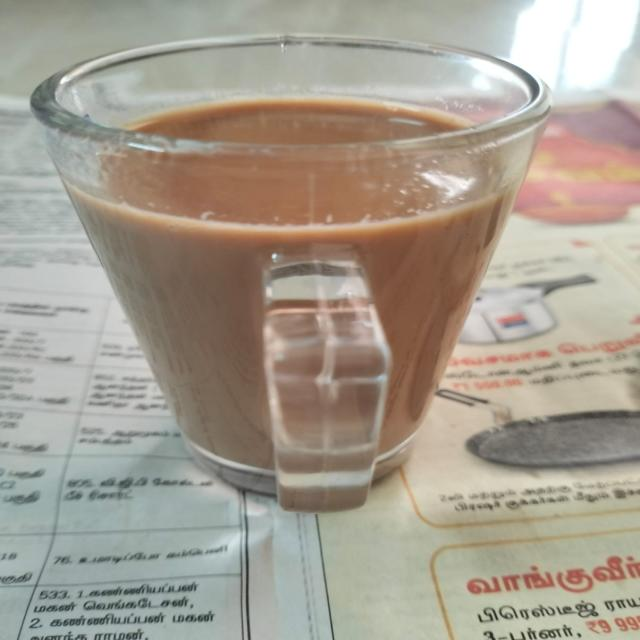glass-VX4N: (34, 36, 552, 503)
